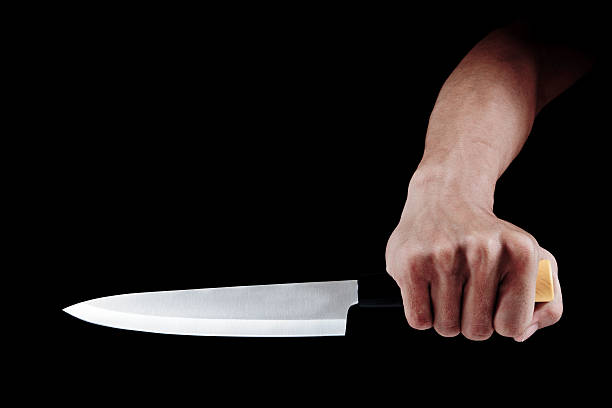knife: (57, 256, 559, 340)
